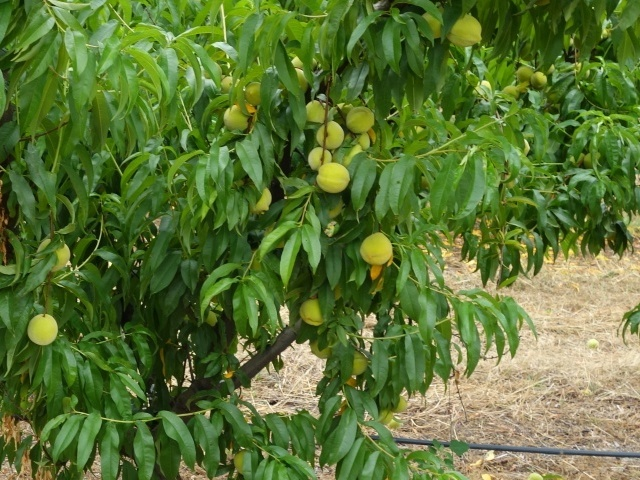peach: (446, 9, 485, 53), (358, 229, 394, 270), (25, 311, 60, 348), (317, 160, 351, 197), (37, 237, 72, 271), (417, 4, 449, 41), (220, 103, 252, 137), (297, 294, 329, 328), (341, 105, 377, 135), (312, 119, 345, 151), (247, 187, 279, 218), (301, 97, 331, 129), (305, 145, 334, 174), (241, 77, 267, 109), (350, 345, 371, 383), (307, 333, 332, 363), (228, 448, 253, 476), (512, 64, 536, 84), (529, 70, 550, 92), (389, 396, 411, 416)
